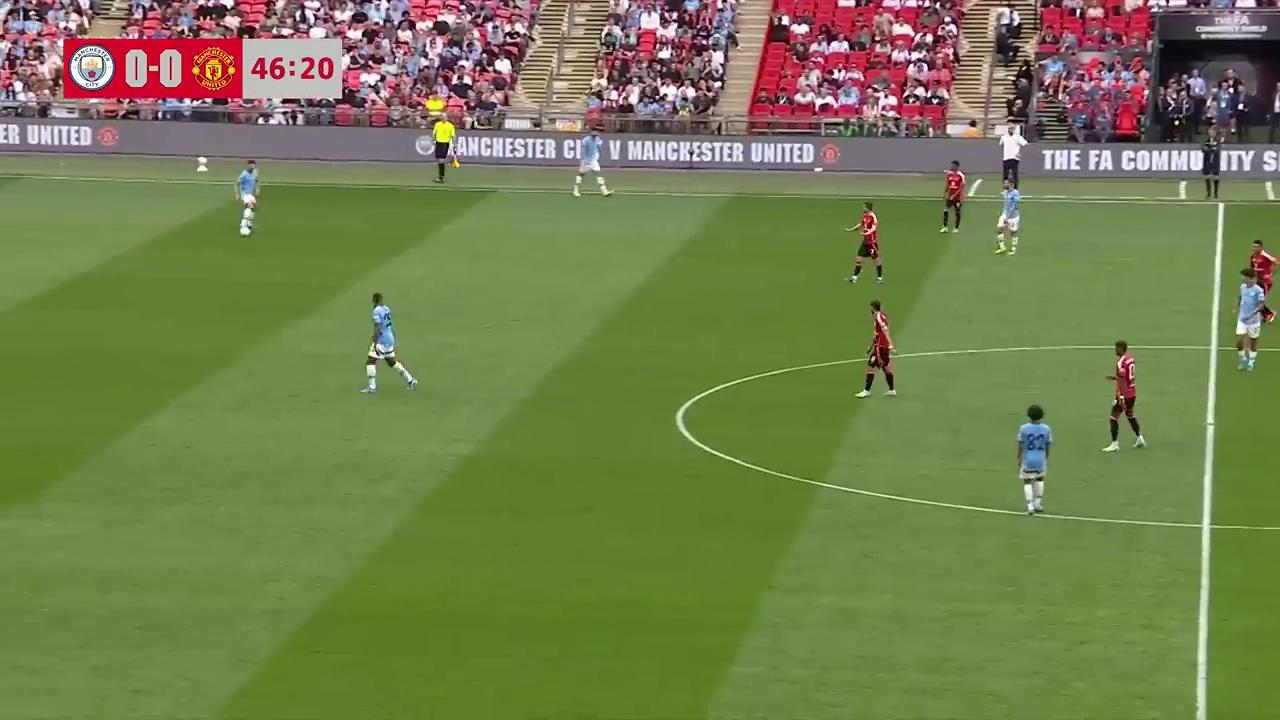ball: (241, 223, 251, 240)
player: (362, 291, 419, 392), (1102, 339, 1147, 450), (1015, 404, 1053, 515), (858, 300, 897, 398), (845, 202, 883, 284), (1233, 268, 1263, 371), (1246, 238, 1279, 324), (575, 129, 612, 198), (995, 179, 1021, 255), (940, 161, 967, 234), (235, 159, 260, 235)
referee: (426, 113, 461, 184)
